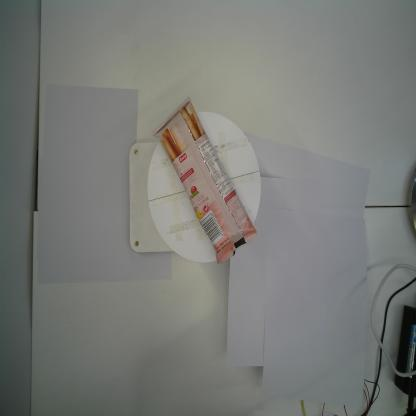Dessert: (150, 95, 260, 266)
